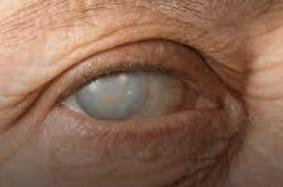eye: (78, 72, 146, 121)
